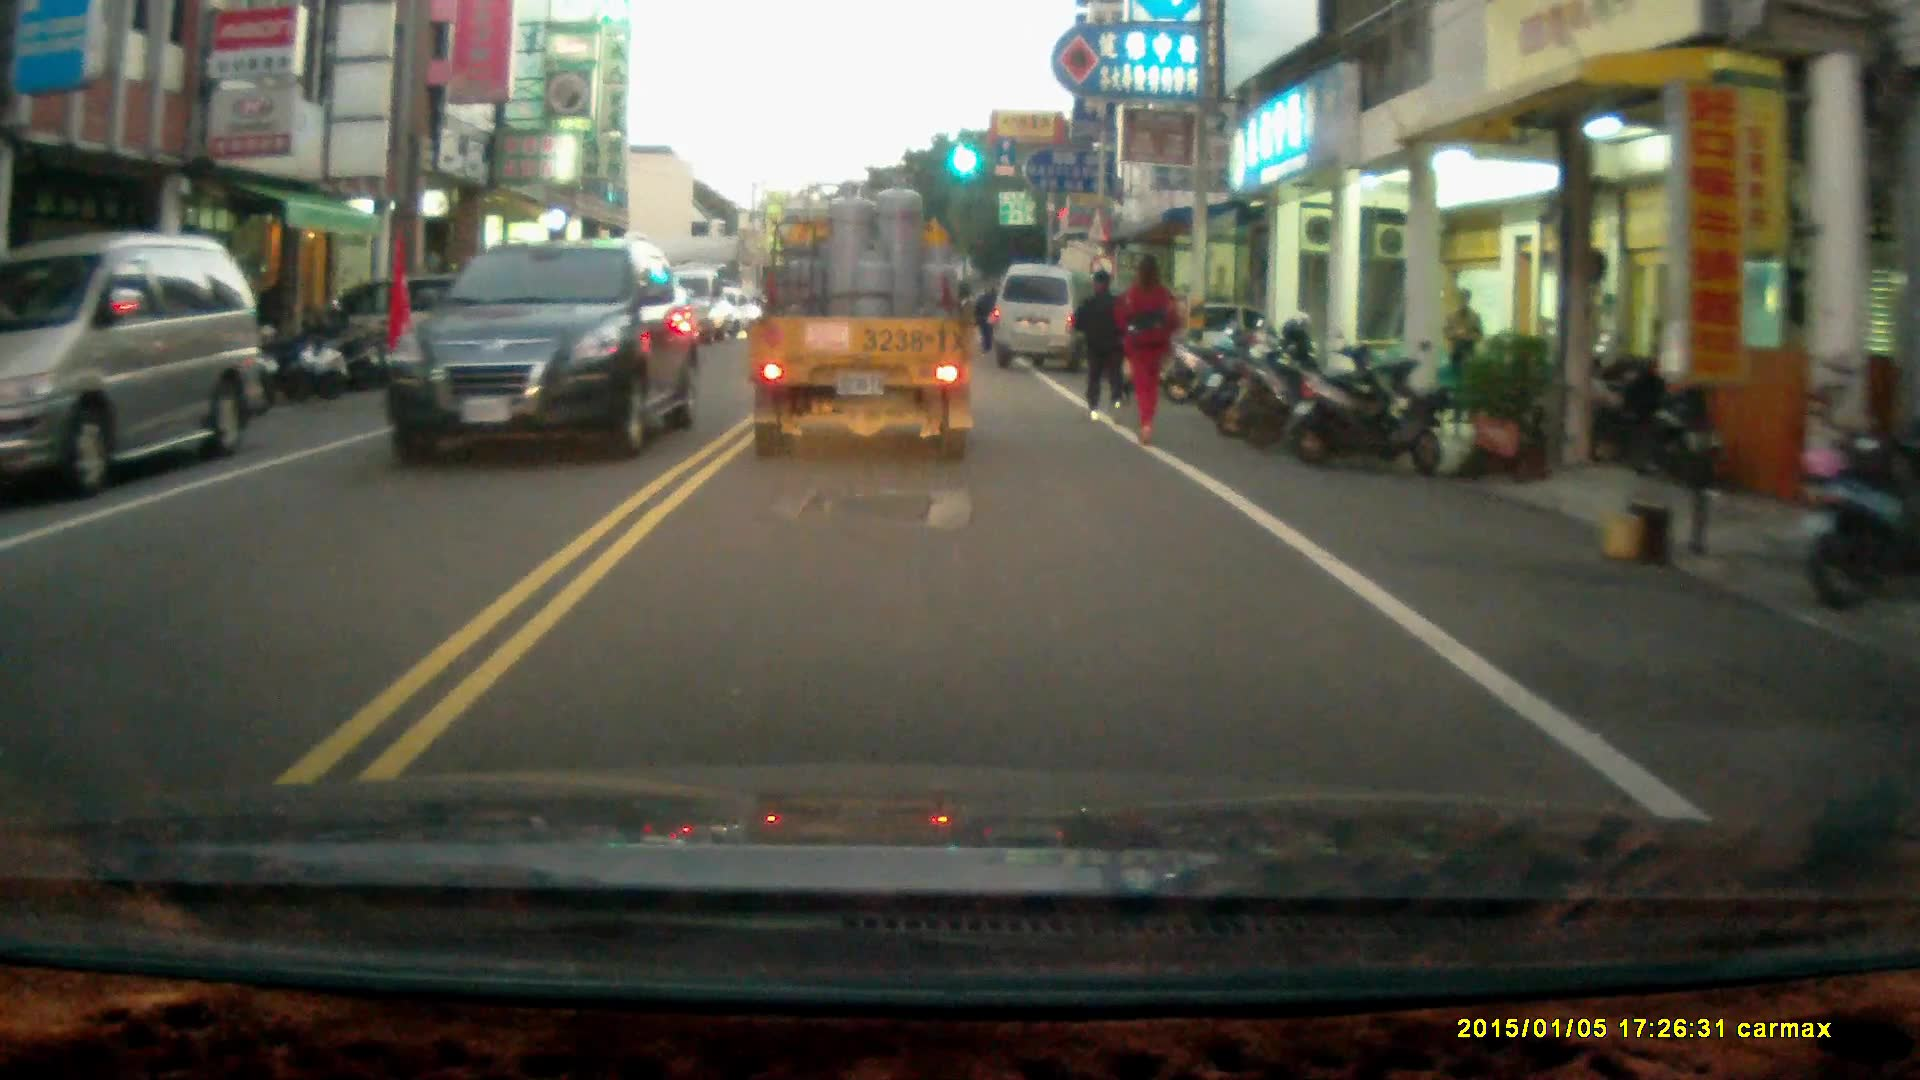pedestrian: (1117, 251, 1182, 443), (1076, 266, 1133, 428), (1440, 286, 1484, 409)
vehicle: (744, 173, 984, 469), (386, 237, 698, 460), (1, 239, 273, 493), (299, 289, 543, 383), (995, 267, 1107, 375)
